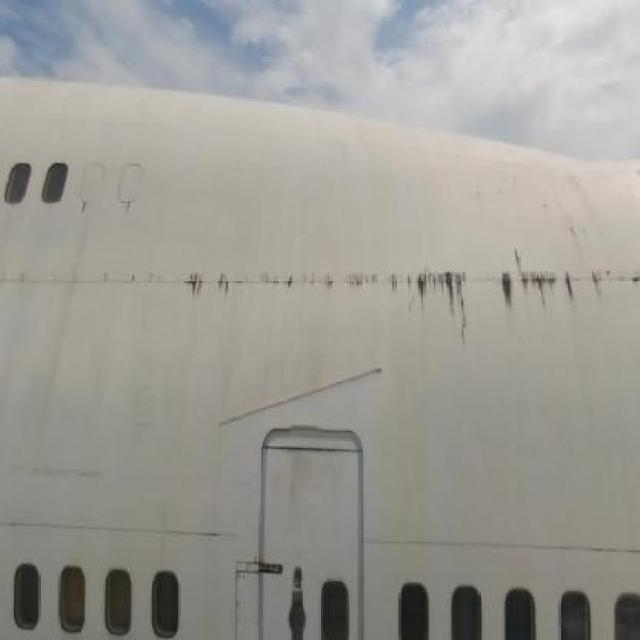Missing-Rivet: (232, 571, 248, 640)
Rust: (177, 248, 640, 337), (546, 183, 603, 266), (208, 451, 227, 640), (125, 198, 132, 224), (78, 198, 87, 215)
Scartch: (10, 444, 128, 508), (284, 451, 356, 509)
